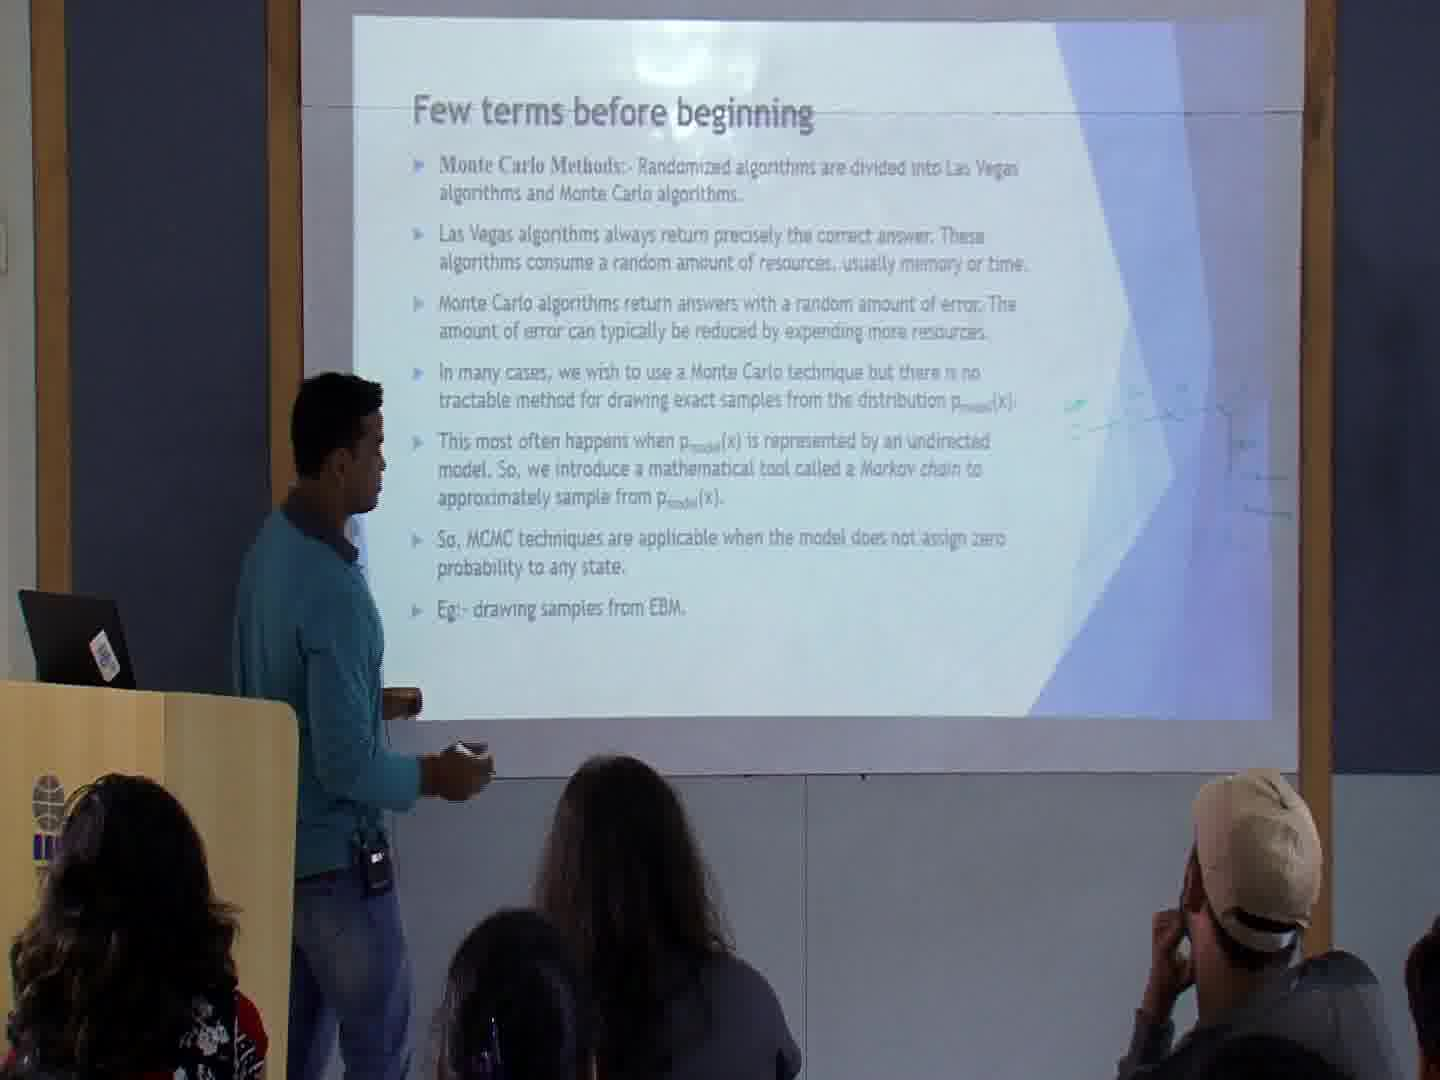slide: (353, 16, 1274, 717)
